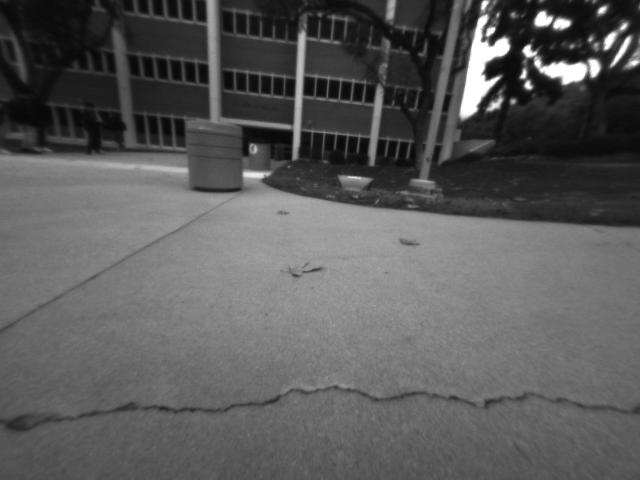trashcan: (179, 109, 247, 200), (246, 132, 274, 178)
